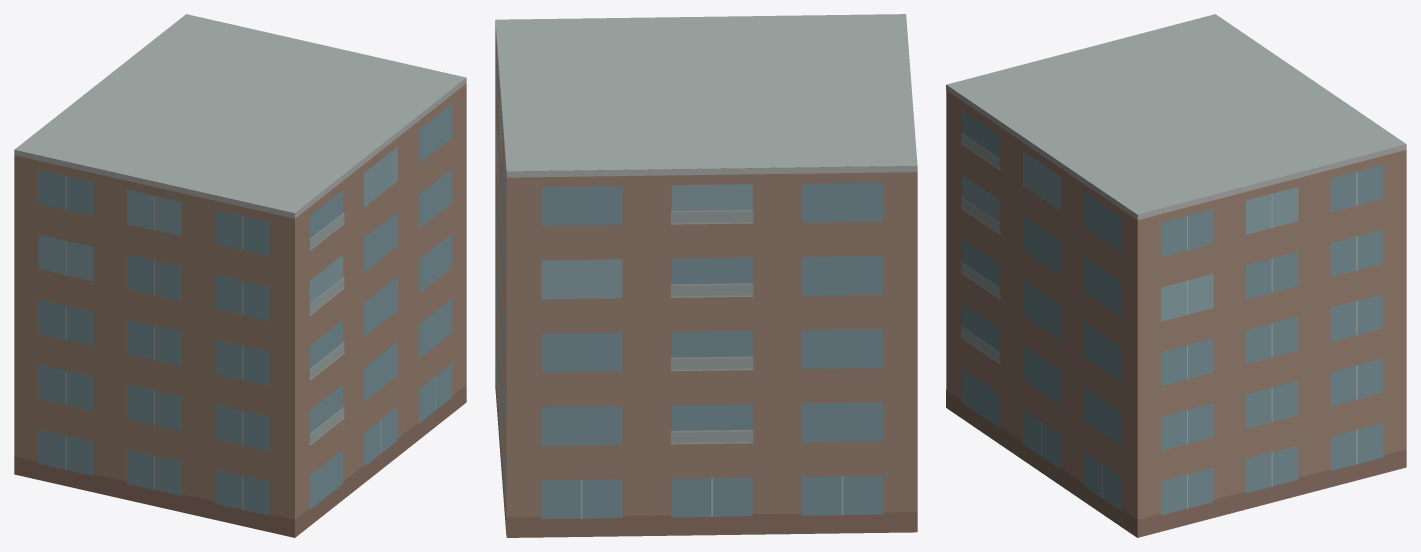
The model's file is residential-82733a74-3139-4298-90f7-97574c2d0451.glb.
The picture shows the model from 3 angles, left to right: view 1: azimuth 30°, elevation 25°; view 2: azimuth 150°, elevation 25°; view 3: azimuth 270°, elevation 25°; orthographic projection. The views are drawn at different scales.
Visible parts, largest first — view 1: residential-82733a74-3139-4298-90f7-97574c2d0451.tmp; view 2: residential-82733a74-3139-4298-90f7-97574c2d0451.tmp; view 3: residential-82733a74-3139-4298-90f7-97574c2d0451.tmp.
Boxes of the visible parts, x1=… form: residential-82733a74-3139-4298-90f7-97574c2d0451.tmp: x1=14, y1=14, x2=466, y2=537; residential-82733a74-3139-4298-90f7-97574c2d0451.tmp: x1=495, y1=14, x2=917, y2=537; residential-82733a74-3139-4298-90f7-97574c2d0451.tmp: x1=946, y1=14, x2=1406, y2=537.
Size of the model in its own units: 18.92 by 14.2 by 18.34.
